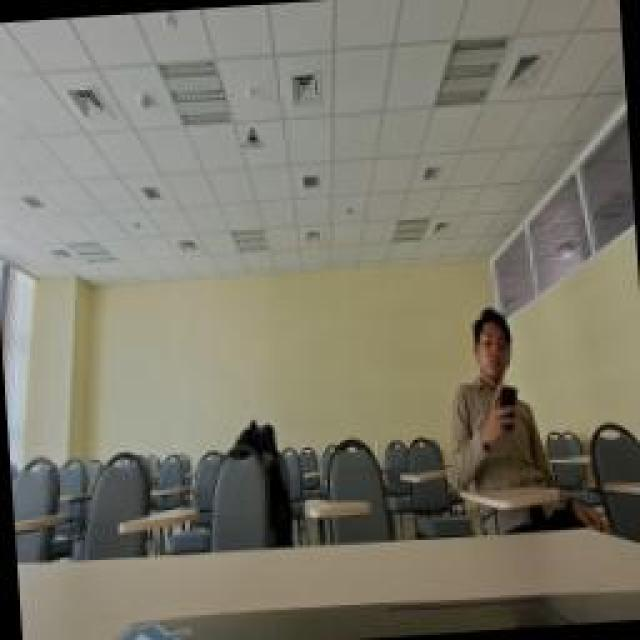phone: (435, 298, 547, 490)
sleep: (223, 403, 285, 495)
